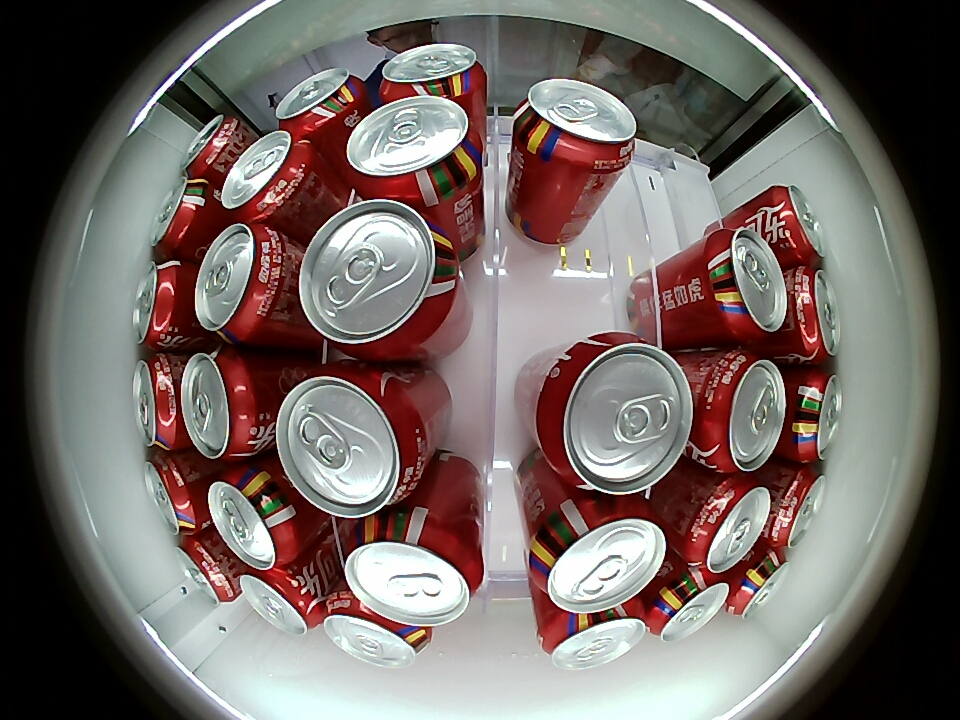kele: (297, 199, 459, 358), (537, 334, 694, 494), (275, 364, 428, 517), (531, 496, 667, 615), (344, 517, 483, 628), (344, 94, 480, 202), (513, 78, 638, 172), (195, 222, 287, 343), (697, 350, 786, 474), (702, 228, 787, 344), (208, 466, 300, 571), (220, 129, 315, 223), (181, 350, 262, 460), (682, 475, 771, 575), (322, 600, 429, 668), (538, 605, 646, 671), (374, 42, 487, 102), (274, 67, 364, 136), (646, 571, 728, 643), (239, 567, 323, 636), (787, 267, 841, 363), (132, 354, 185, 450), (788, 370, 843, 462), (143, 452, 203, 536), (767, 465, 826, 549), (765, 185, 826, 266), (132, 261, 187, 350), (149, 177, 210, 257), (174, 535, 238, 606), (727, 549, 790, 620), (181, 114, 242, 179)
